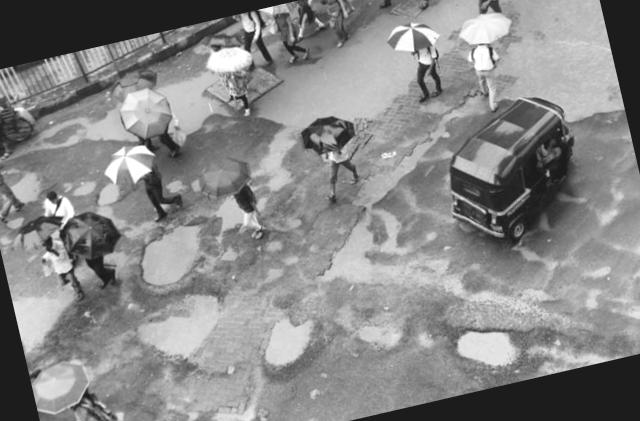Pothole: (179, 0, 634, 247), (298, 189, 472, 314), (116, 283, 240, 375), (238, 296, 332, 386), (6, 261, 85, 362), (449, 301, 538, 381), (132, 216, 223, 288), (346, 304, 420, 368), (80, 174, 138, 218), (71, 172, 99, 203)
